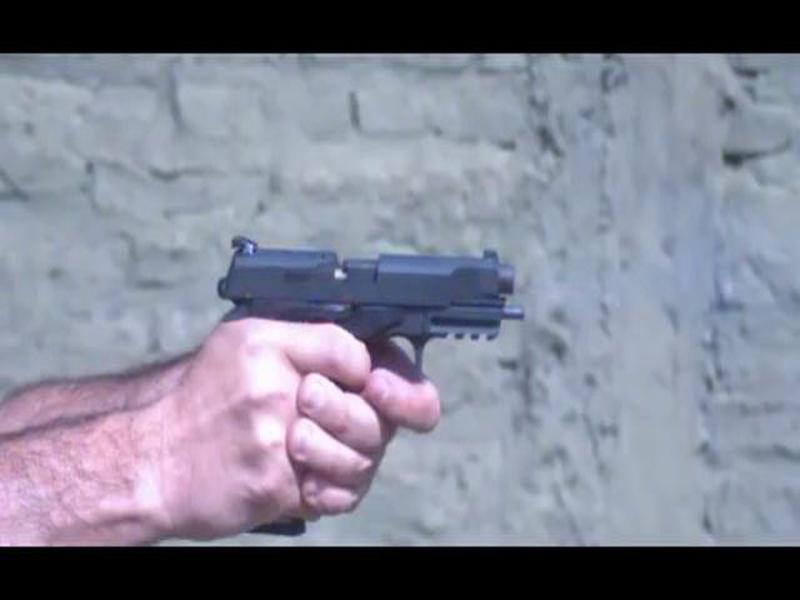Pistola: (214, 234, 541, 393)
